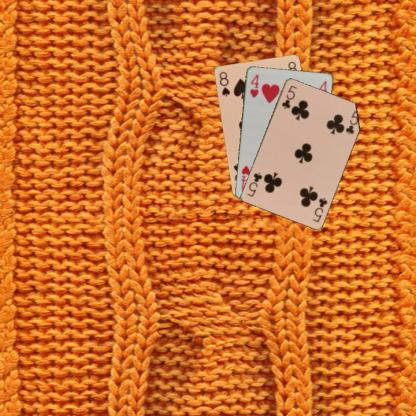4h: (247, 72, 260, 98)
5c: (279, 82, 298, 110), (310, 195, 328, 223)
8s: (217, 69, 231, 98)
